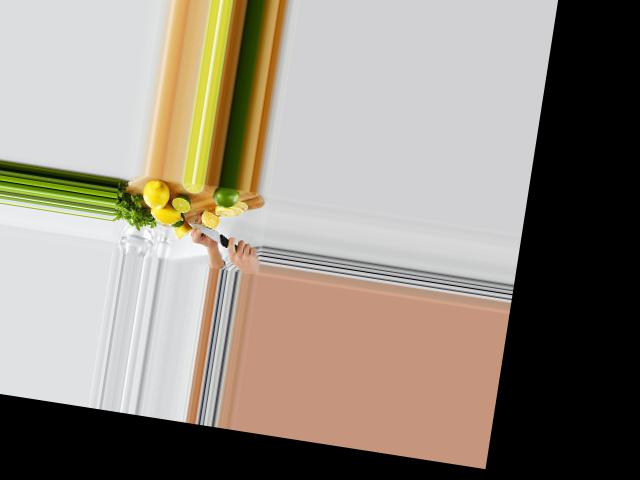lemon: (136, 178, 173, 210)
